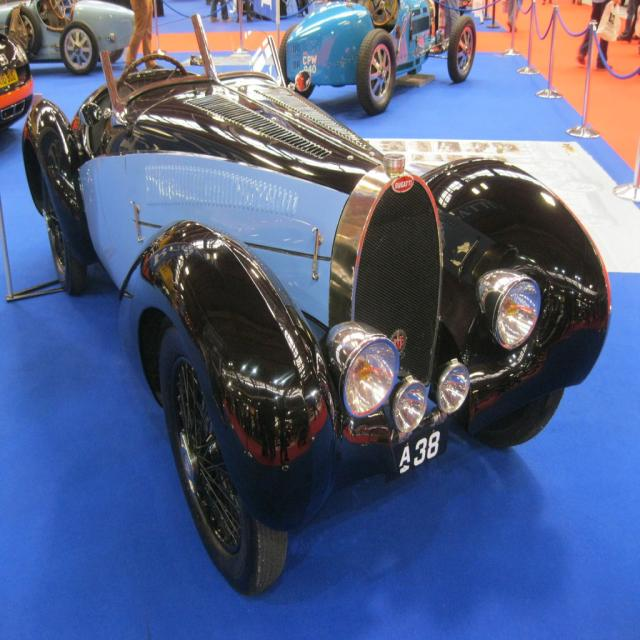car: (20, 10, 611, 596)
